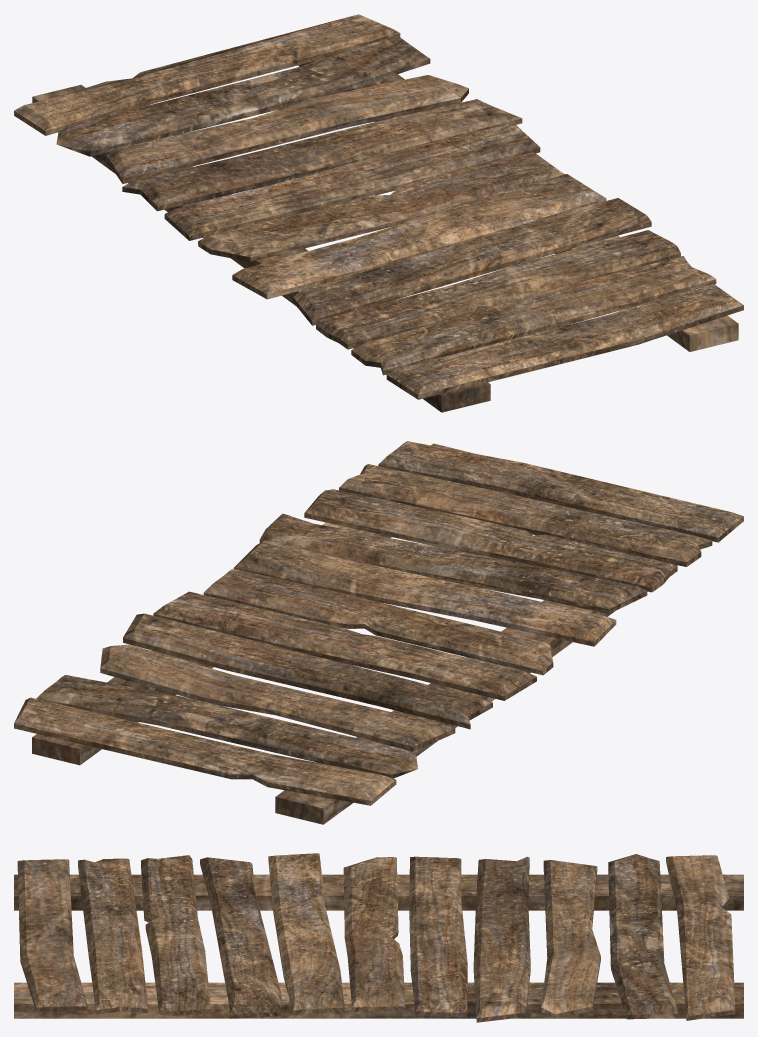
Rendered from Bridge_1.fbx.
3 views of the same model, one above another, from view 1: azimuth 30°, elevation 25°; view 2: azimuth 150°, elevation 25°; view 3: azimuth 270°, elevation 25° (orthographic). The views are drawn at different scales.
Visible parts, largest first — view 1: Bridge_1; view 2: Bridge_1; view 3: Bridge_1.
Part boxes in pixels (x1,y1,x2,y2): Bridge_1: (14, 14, 743, 412); Bridge_1: (14, 441, 743, 824); Bridge_1: (14, 853, 743, 1022).
Bounding box in the file's own units: 3.53 × 0.2844 × 6.61.
Materials: 1 (1 with a texture image).
